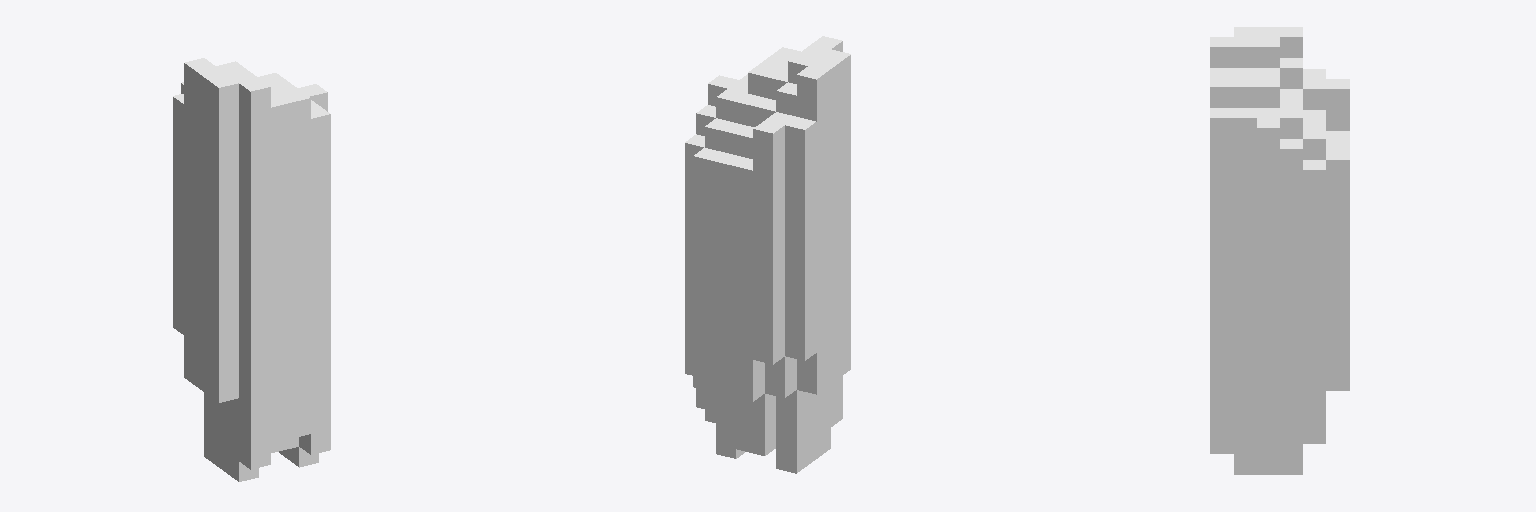
File: Redhead-8.obj
The picture shows the model from 3 angles: view 1: azimuth 30°, elevation 25°; view 2: azimuth 150°, elevation 25°; view 3: azimuth 270°, elevation 25°; orthographic projection.
Parts seen in each view (by area): view 1: object 1; view 2: object 1; view 3: object 1.
Boxes of the visible parts, x1,y1,x2,y2 form: object 1: [173, 58, 330, 481]; object 1: [685, 36, 850, 473]; object 1: [1210, 27, 1349, 474].
Bounding box in the file's own units: 0.6 × 1.9 × 0.6.